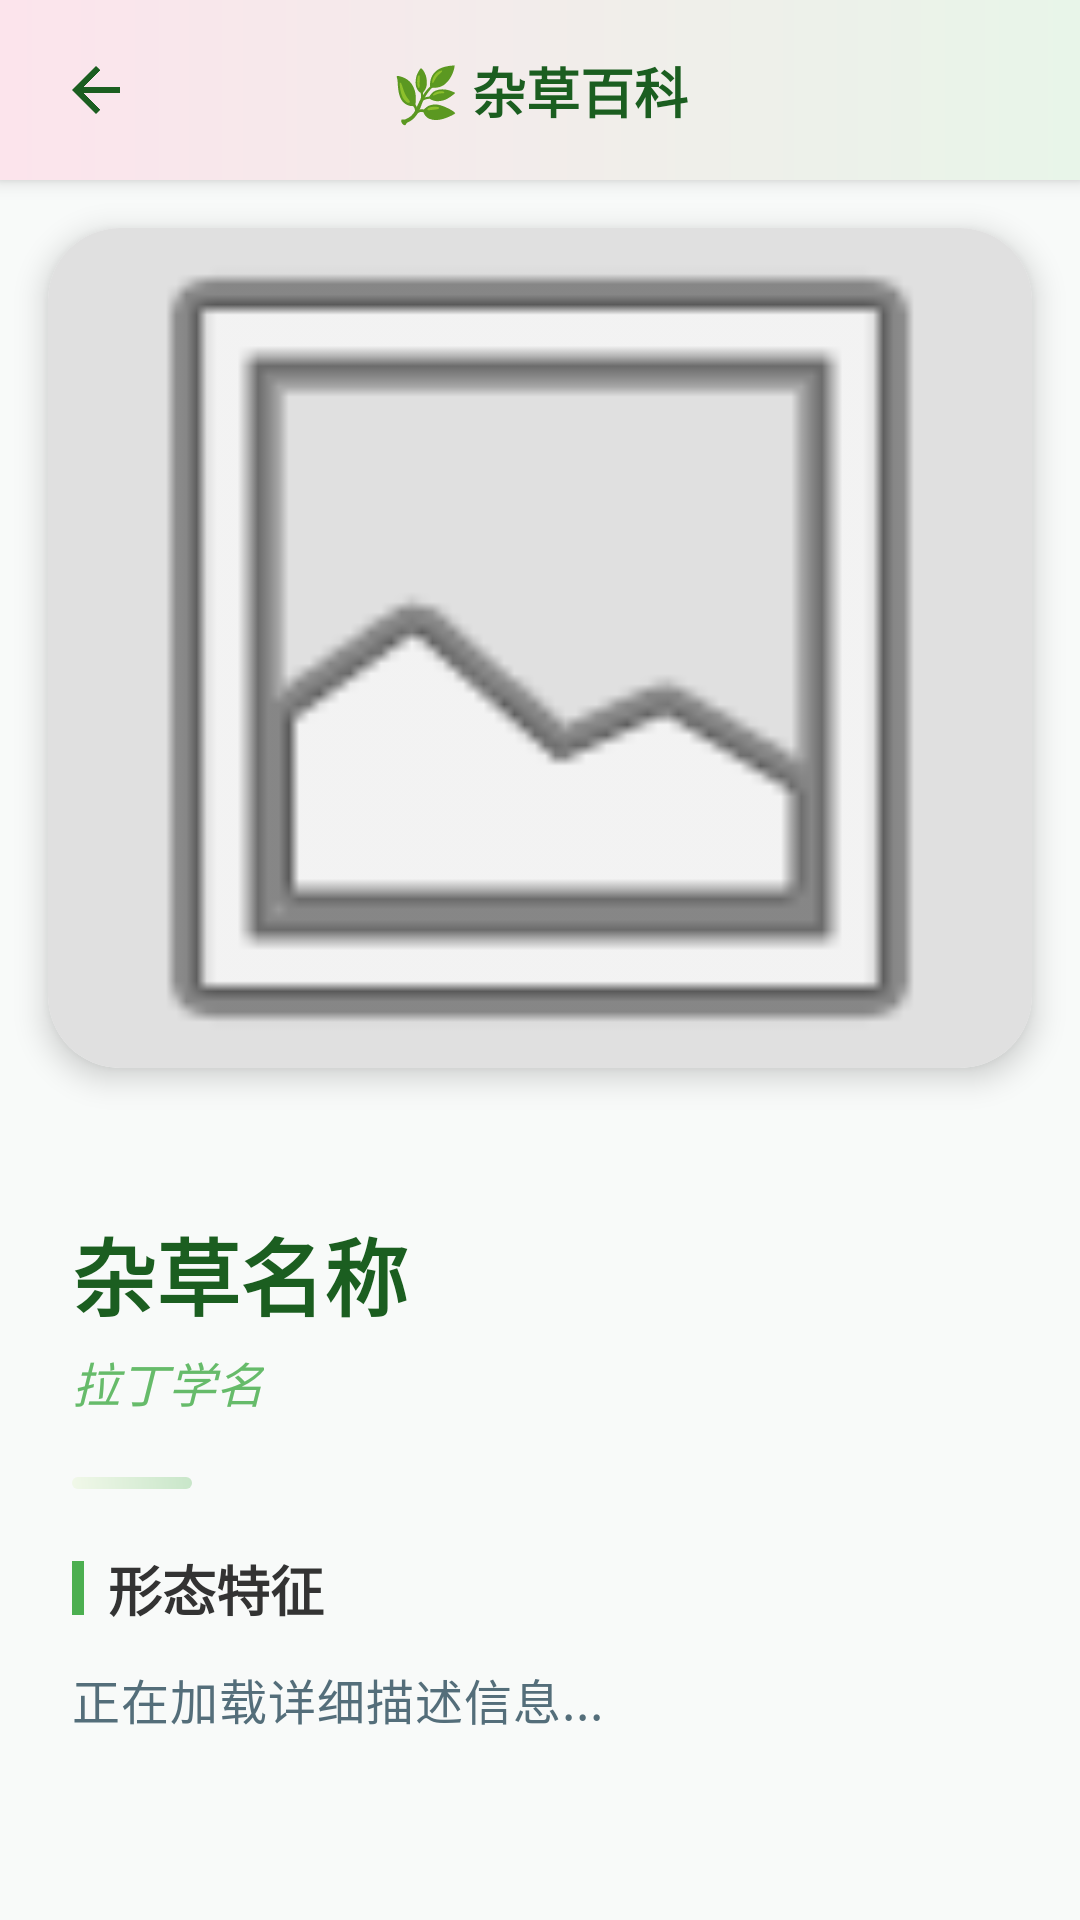

Icon bounding boxes for this 1080w x 1920h phone screenshot, format (x1=x1, y1=y1, x2=x2, y2=y2):
arrow back: (x1=72, y1=66, x2=120, y2=114)
